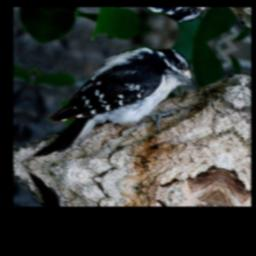Woodpecker: (32, 22, 208, 192)
